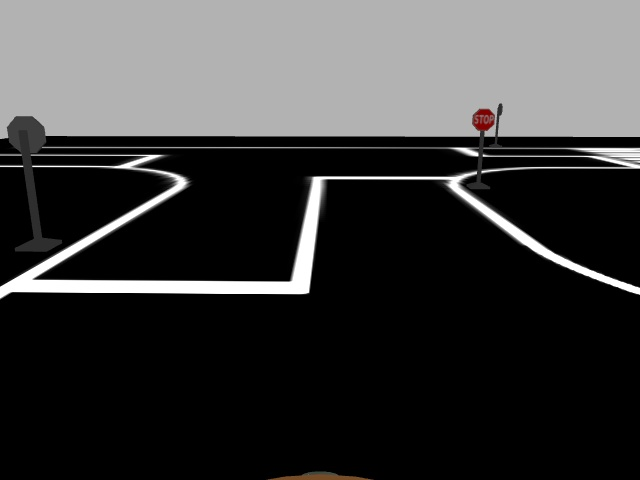stop: (469, 108, 496, 132)
